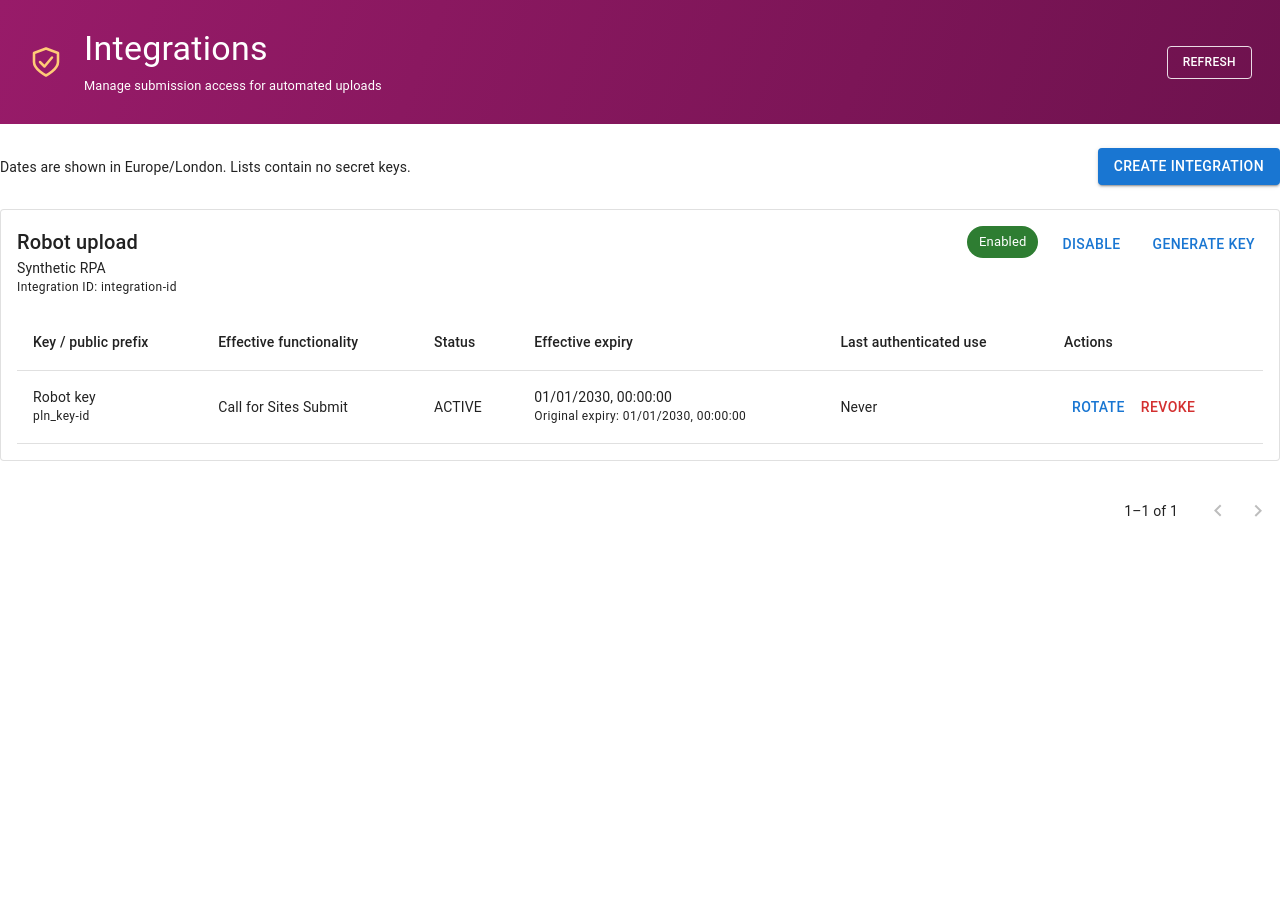
Test: integration administration › offers manual copying if clipboard access fails without echoing the failure
Expected: the heading "Robot upload" is shown, [17,230,138,254]
Click the button with aria-label "Generate key for Robot upload": (1204, 244) [1144,226,1263,262]
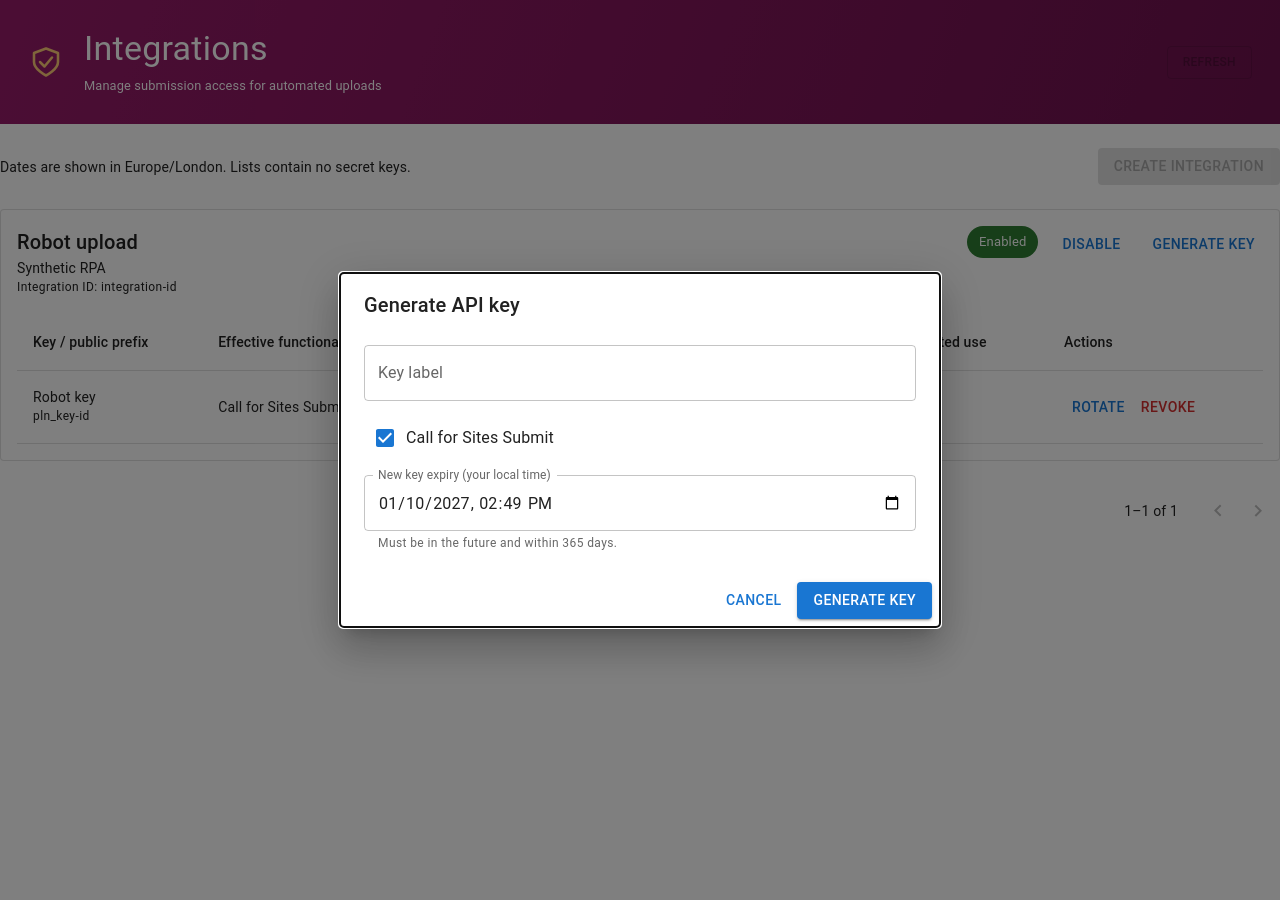
In the field labelled "Key label": (640, 373) [364,345,916,401], type "Replacement"
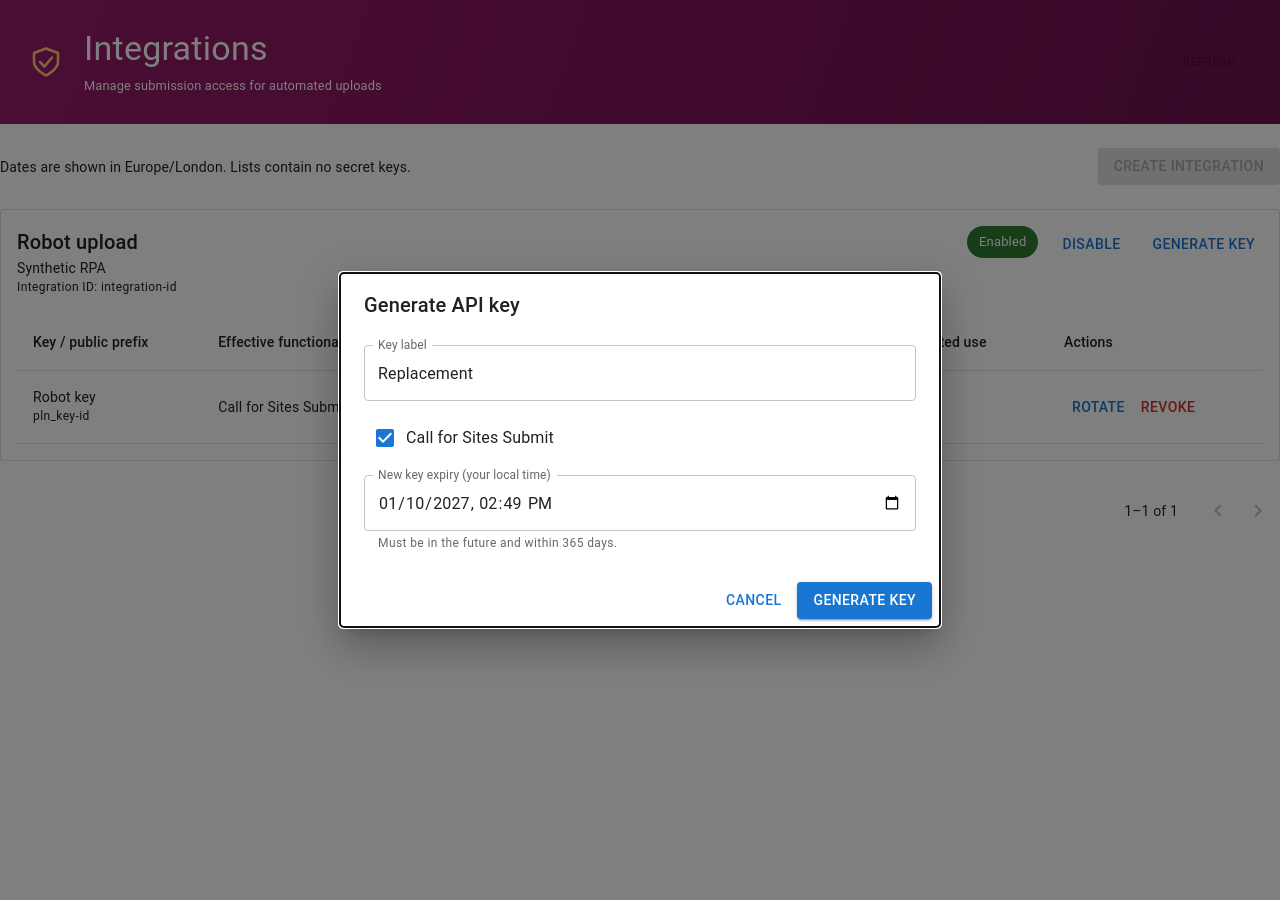
Click the button "Generate key": (865, 600) [798,582,932,619]
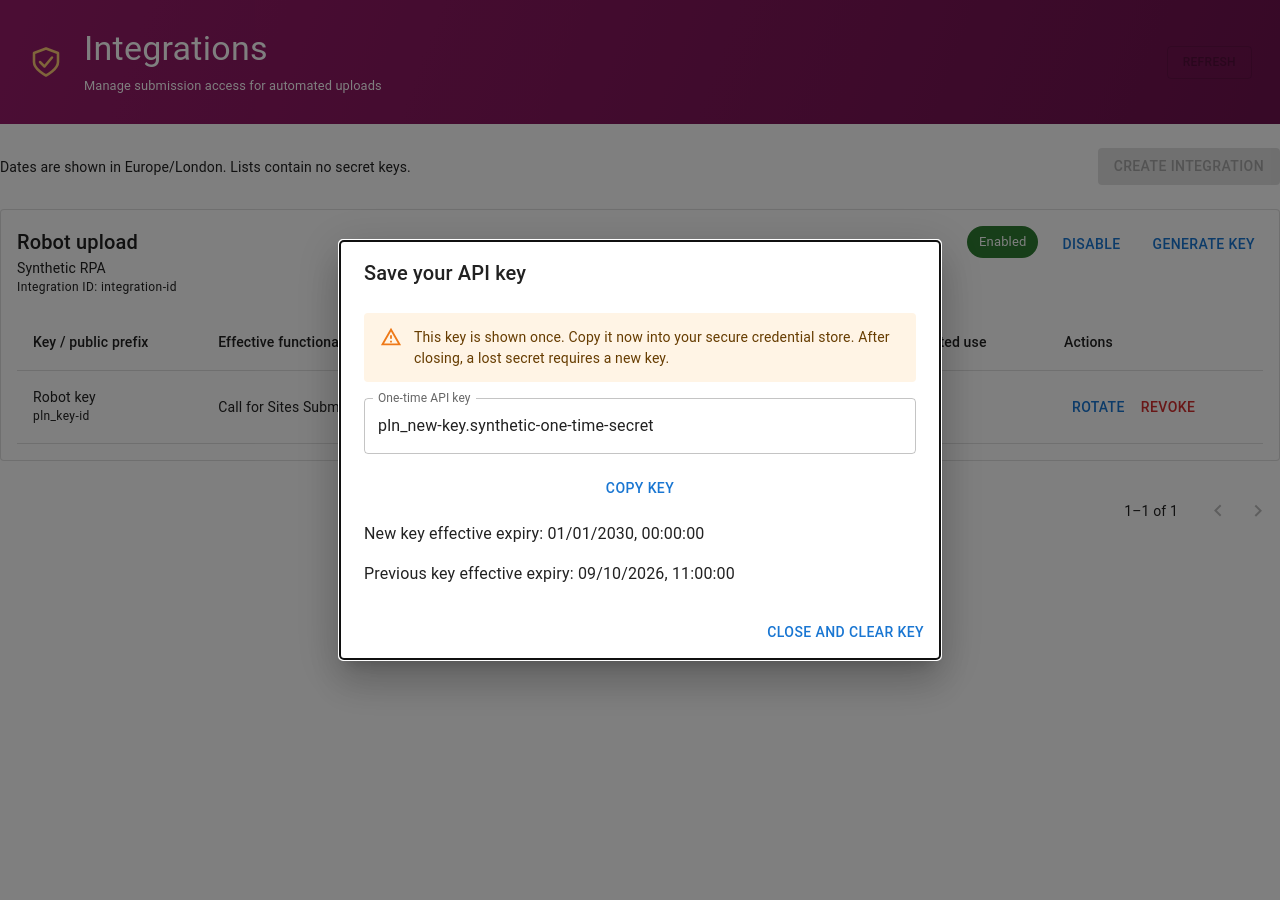
Expected: the text box labelled "One-time API key" is shown, [378,414,902,437]
Click the button "Copy key": (640, 488) [364,470,916,506]
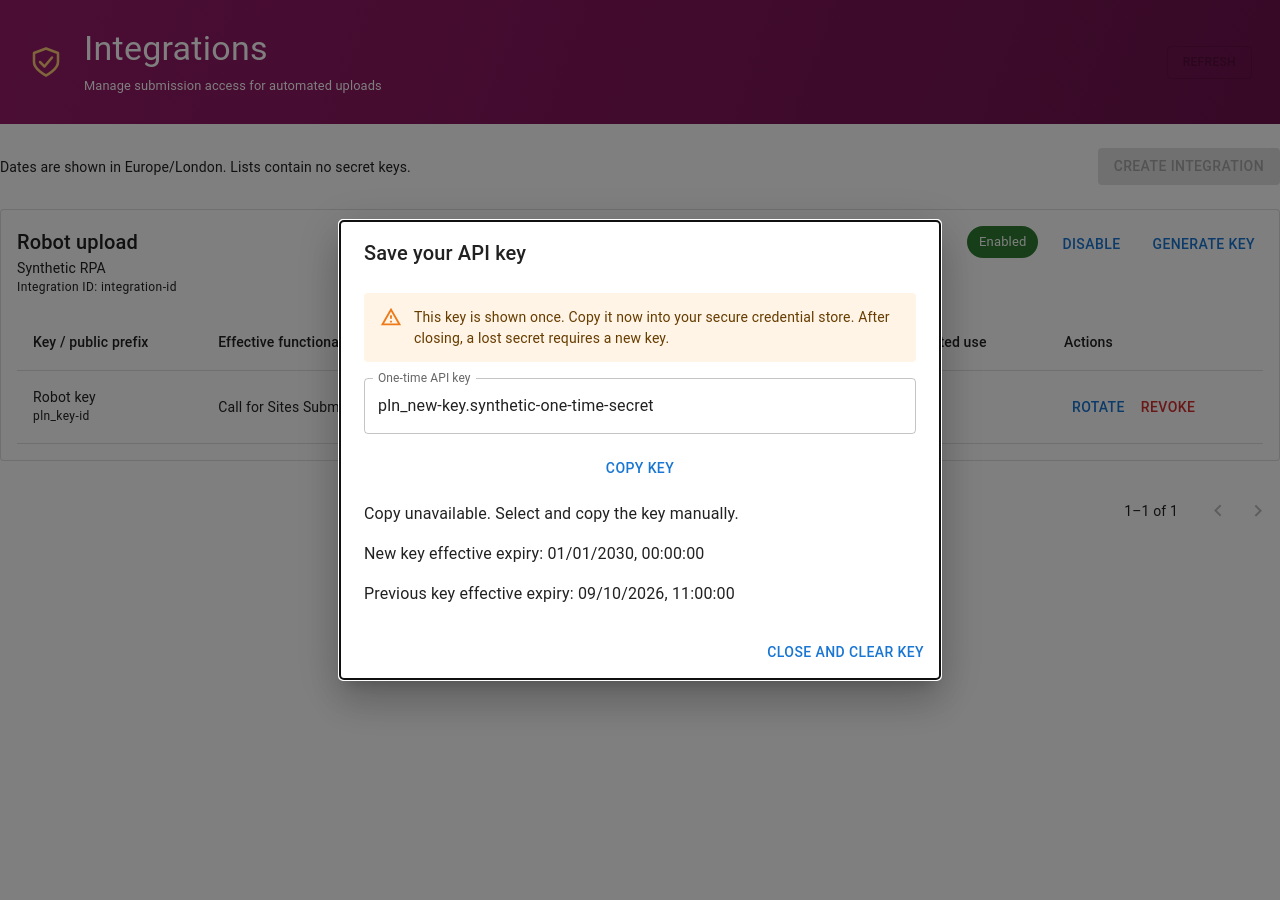
Expected: the message "Copy unavailable. Select and copy the key manually." is shown, [364,504,739,523]
